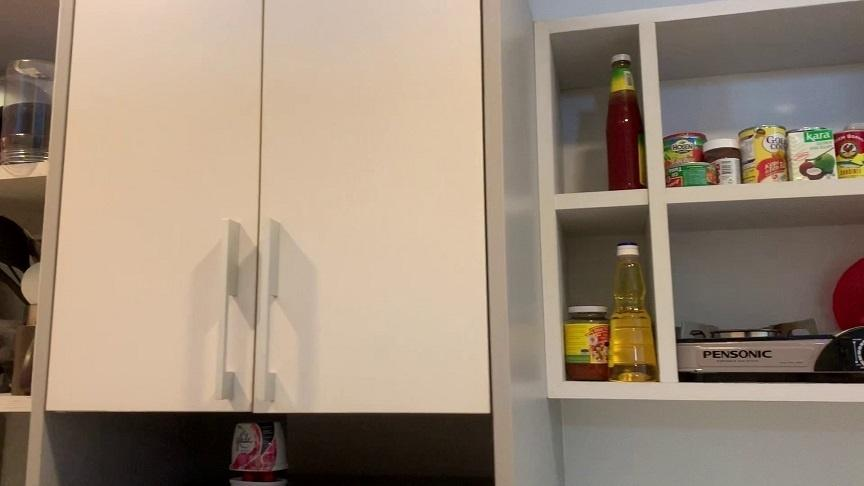cabinet_door: (261, 3, 483, 413), (60, 1, 256, 414)
handle: (211, 218, 249, 403), (257, 217, 287, 408)
